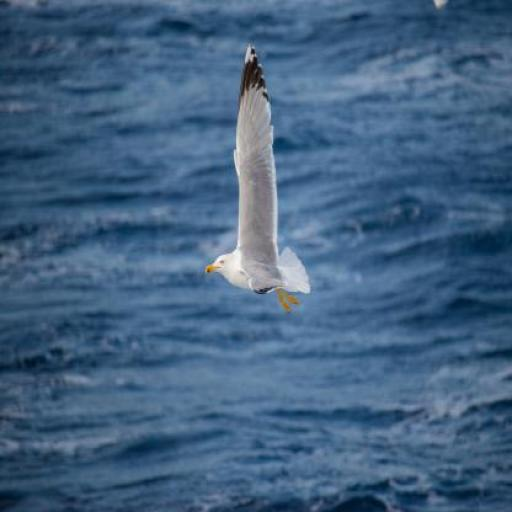bird: (207, 41, 311, 314)
